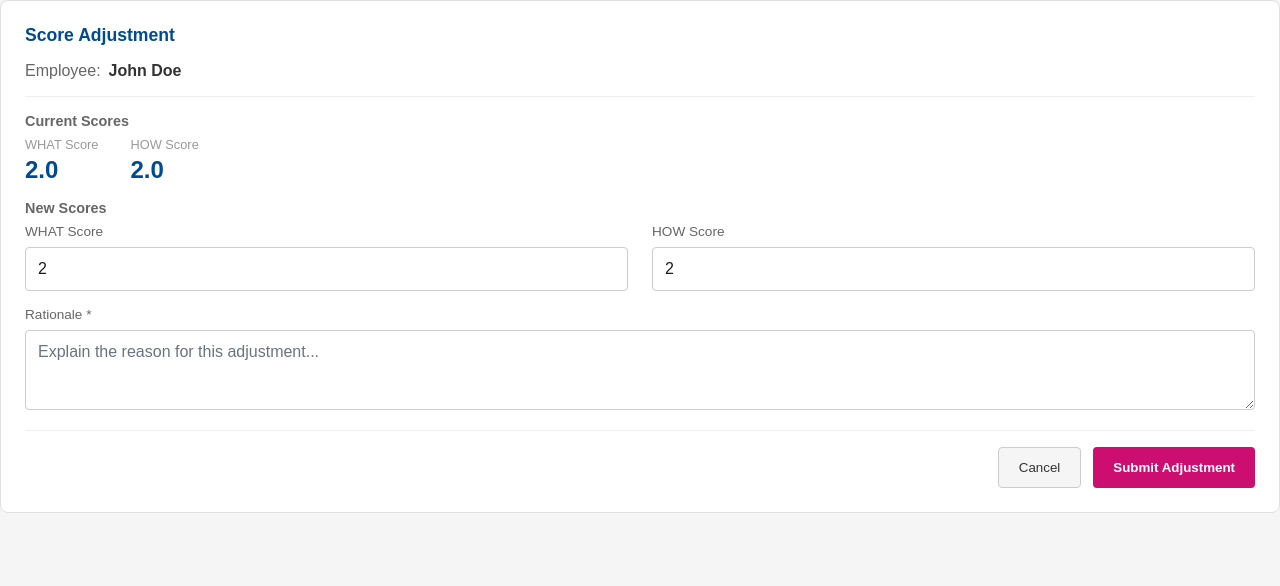
ScoreAdjustmentPanel › submission › should show error message on API failure
Replace the text in the number field named "whatScore" with "2.5" at (326,269), box x1=25 y1=247 x2=628 y2=291
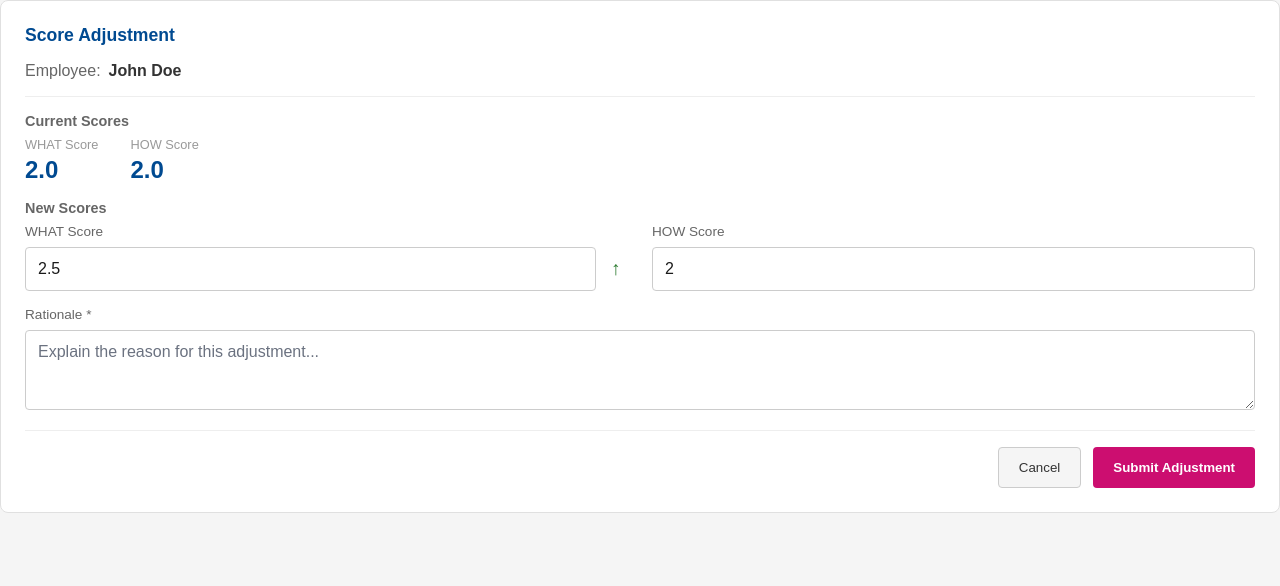
Type "Test" into the text box named "rationale" at (640,370), box x1=25 y1=330 x2=1255 y2=410
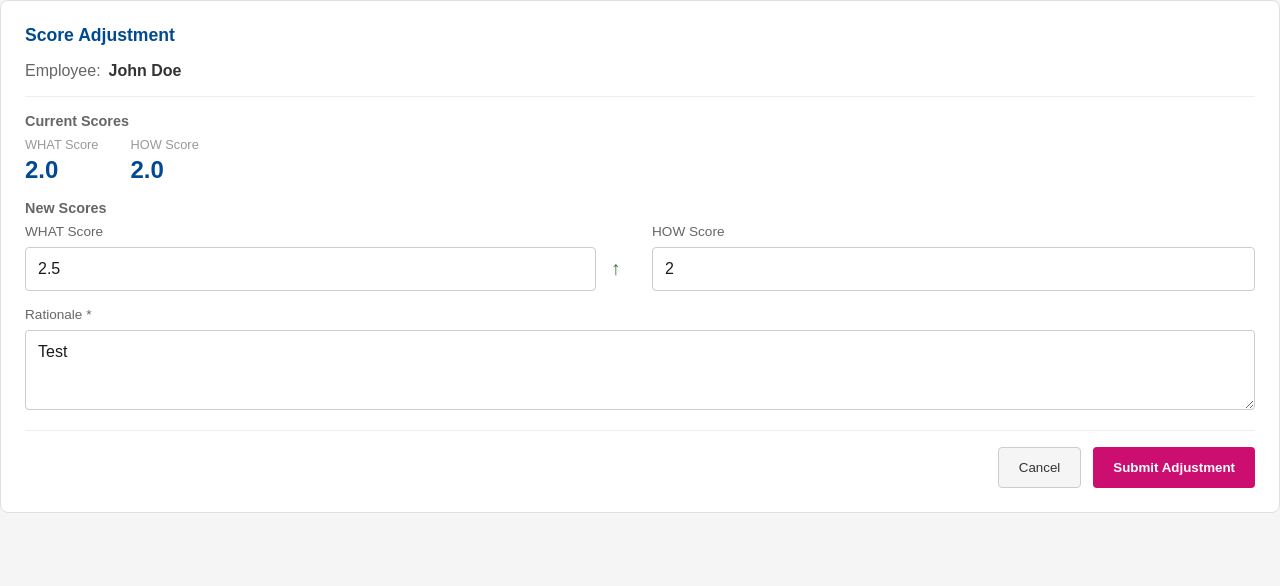
Submit the form, box x1=25 y1=200 x2=1255 y2=488
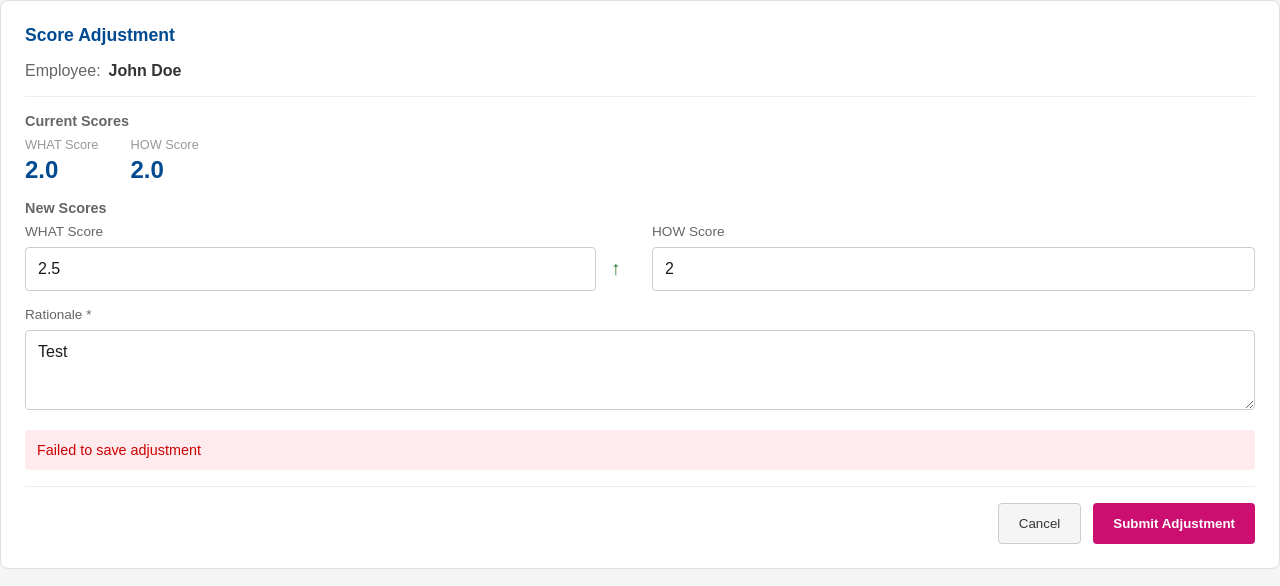
Check: the text "Failed to save adjustment" is shown, box x1=25 y1=430 x2=1255 y2=470
